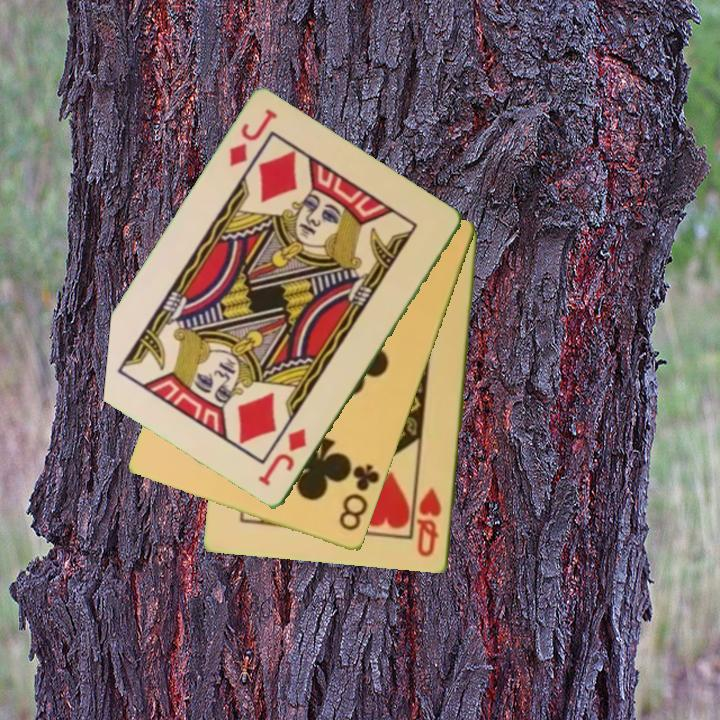8c: (335, 461, 383, 535)
Jd: (254, 425, 310, 489), (225, 106, 280, 171)
Qh: (414, 484, 445, 560)
